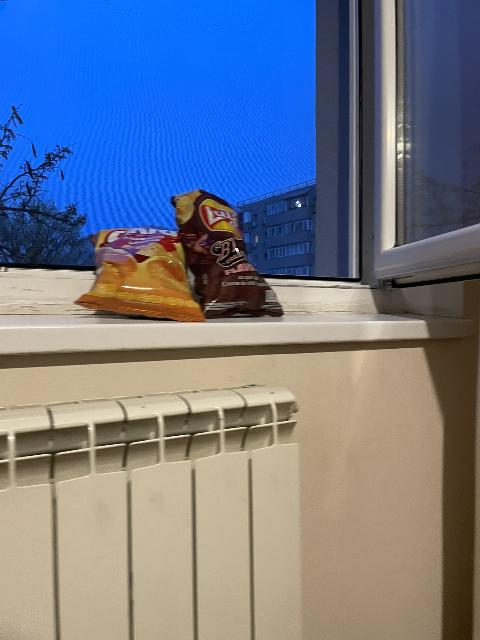Chio Cascaval 125g: (74, 226, 205, 319)
Lays Beef Grilled Ribs 125g: (172, 188, 282, 317)
